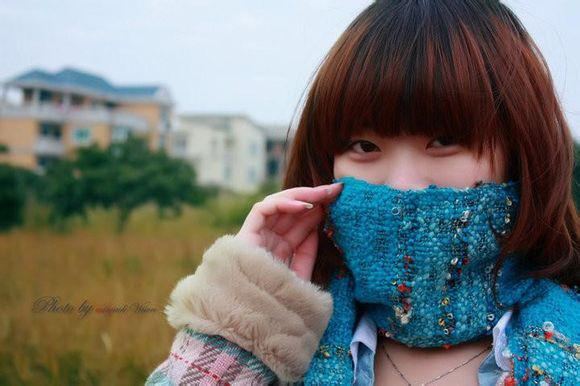WRONG: (338, 100, 526, 288)
